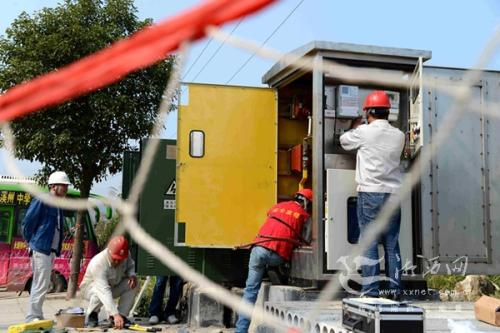hard-hat: (107, 235, 129, 260), (363, 91, 391, 110), (48, 171, 71, 185), (294, 188, 313, 202)
person: (338, 89, 406, 301), (234, 187, 313, 332), (20, 170, 80, 323), (79, 235, 138, 329)
